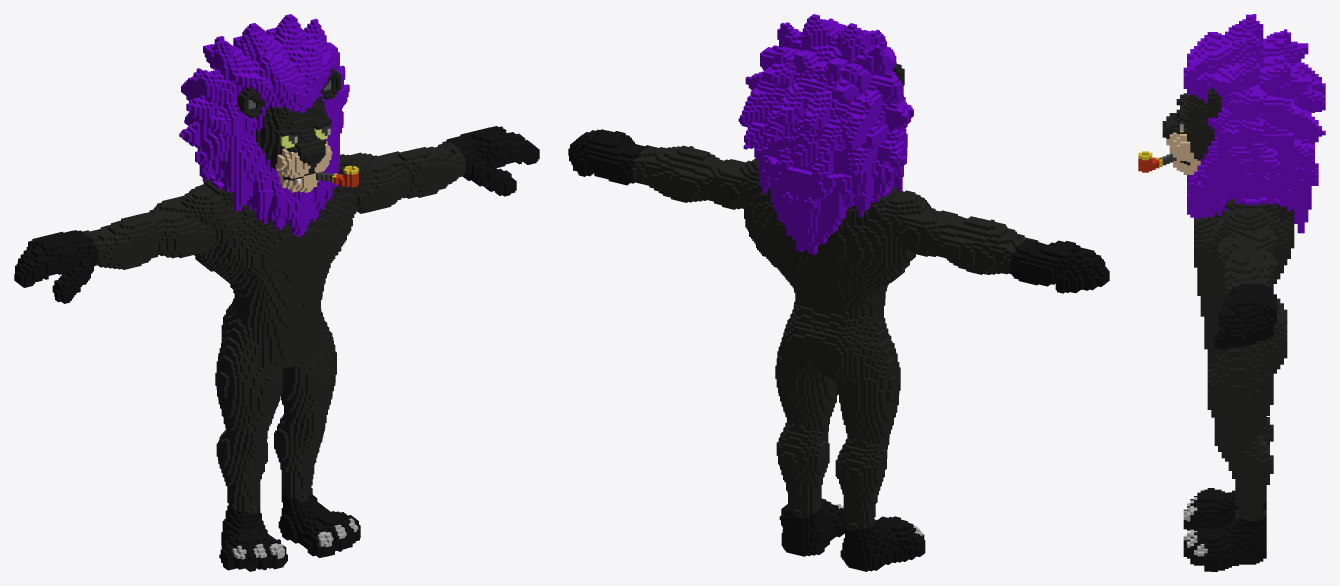
File: 317-BWuhS41Y.glb
The picture shows the model from 3 angles, left to right: view 1: azimuth 30°, elevation 25°; view 2: azimuth 150°, elevation 25°; view 3: azimuth 270°, elevation 25°; orthographic projection. The views are drawn at different scales.
Parts seen in each view (by area): view 1: pipe; view 2: pipe; view 3: pipe.
Part boxes in pixels (<box>): pipe: <box>14,14,539,571</box>; pipe: <box>568,14,1109,571</box>; pipe: <box>1138,14,1325,571</box>.
Size of the model in its own units: 17.2 by 16.5 by 5.4.
4 materials, 4 textured.
